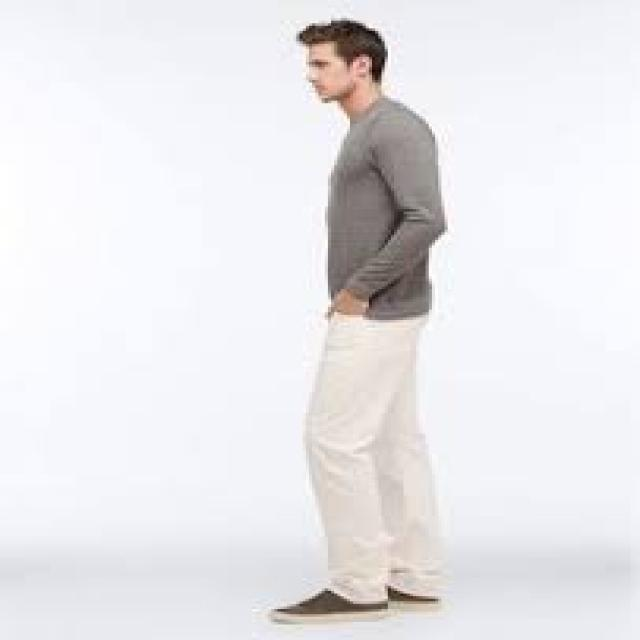adult: (259, 10, 498, 627)
